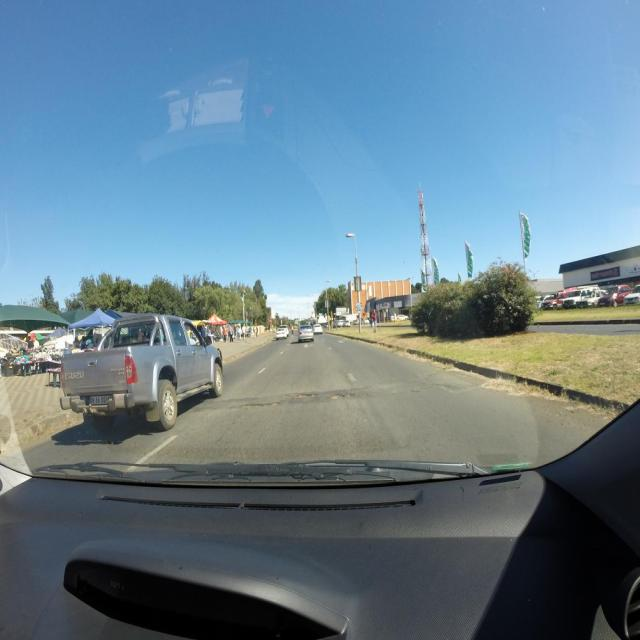Pothole: (239, 402, 279, 408), (295, 394, 317, 399), (330, 394, 344, 399)
